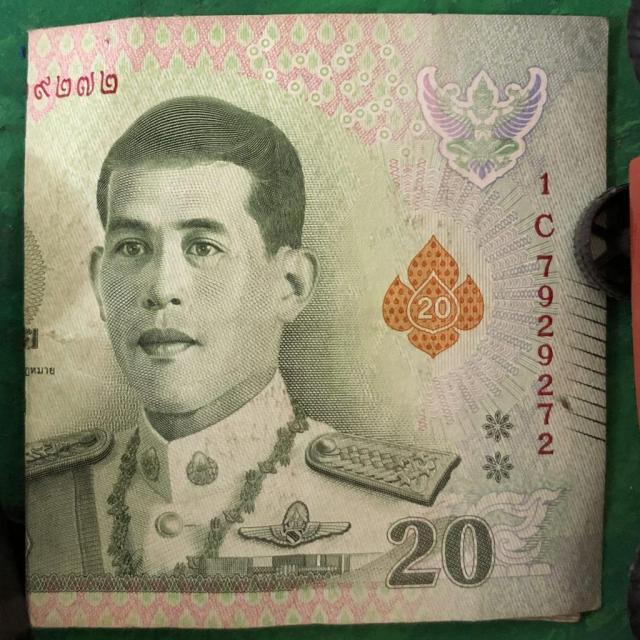THAI20: (21, 14, 608, 628)
